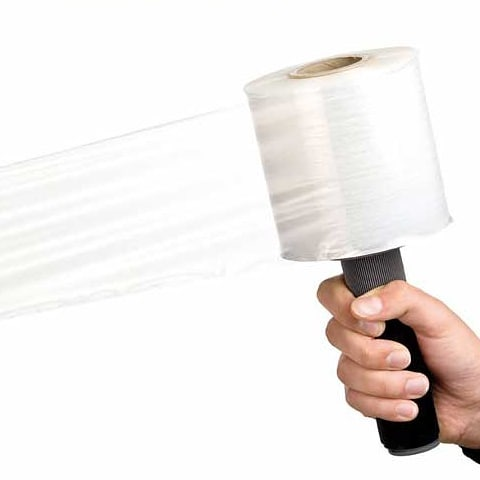hand: (334, 292, 475, 415)
